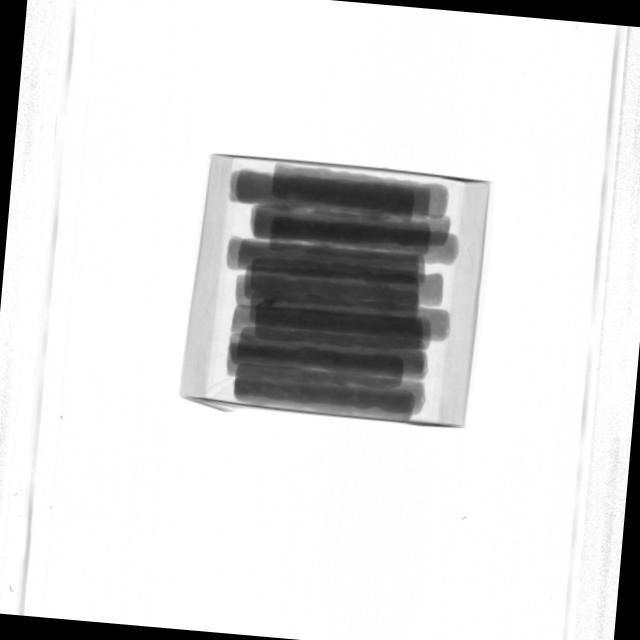ym: (255, 296, 278, 309)
